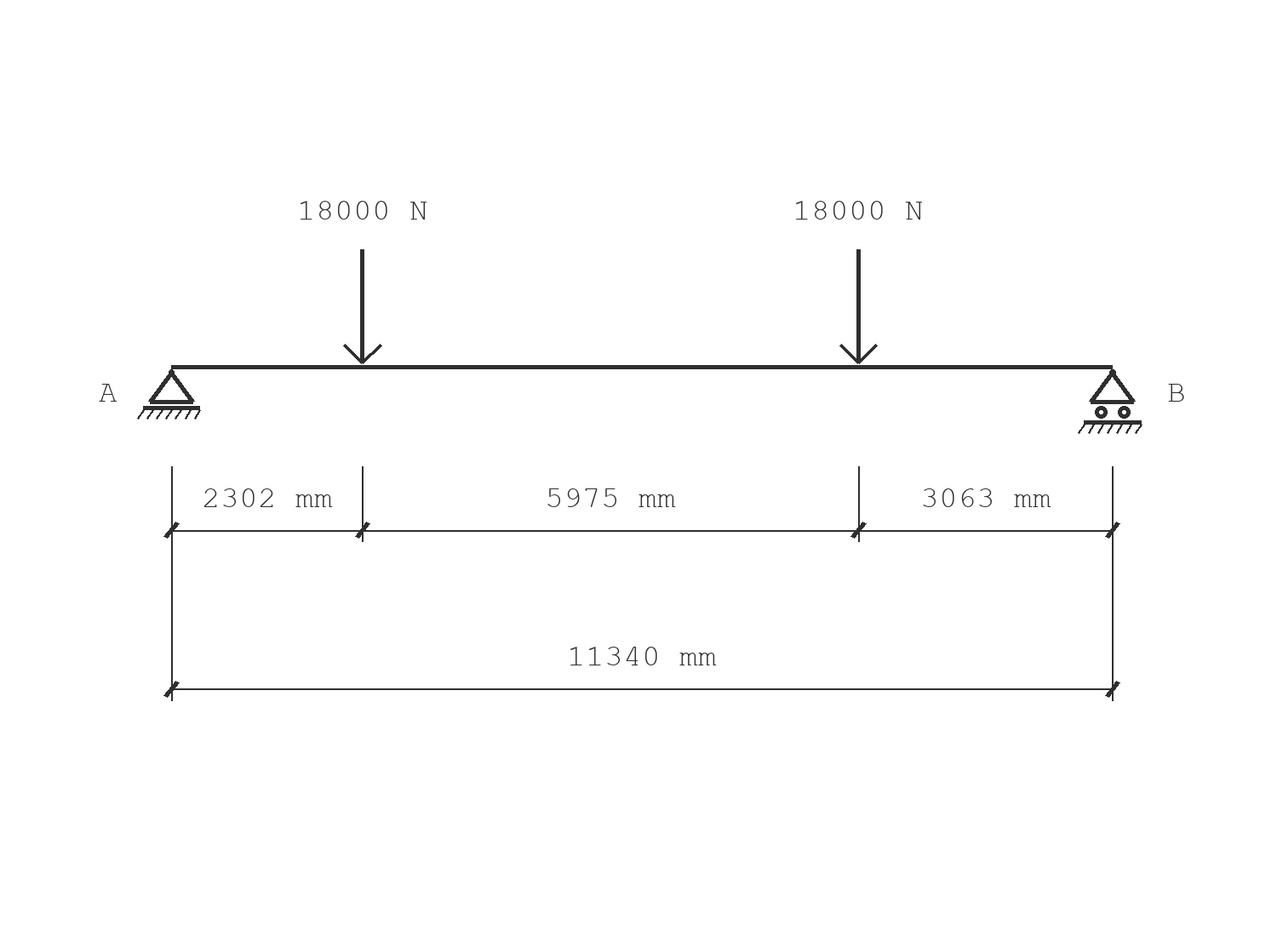pin_support: (137, 369, 201, 419)
point_load: (343, 249, 382, 364), (839, 249, 878, 364)
roller_support: (1078, 369, 1142, 434)
